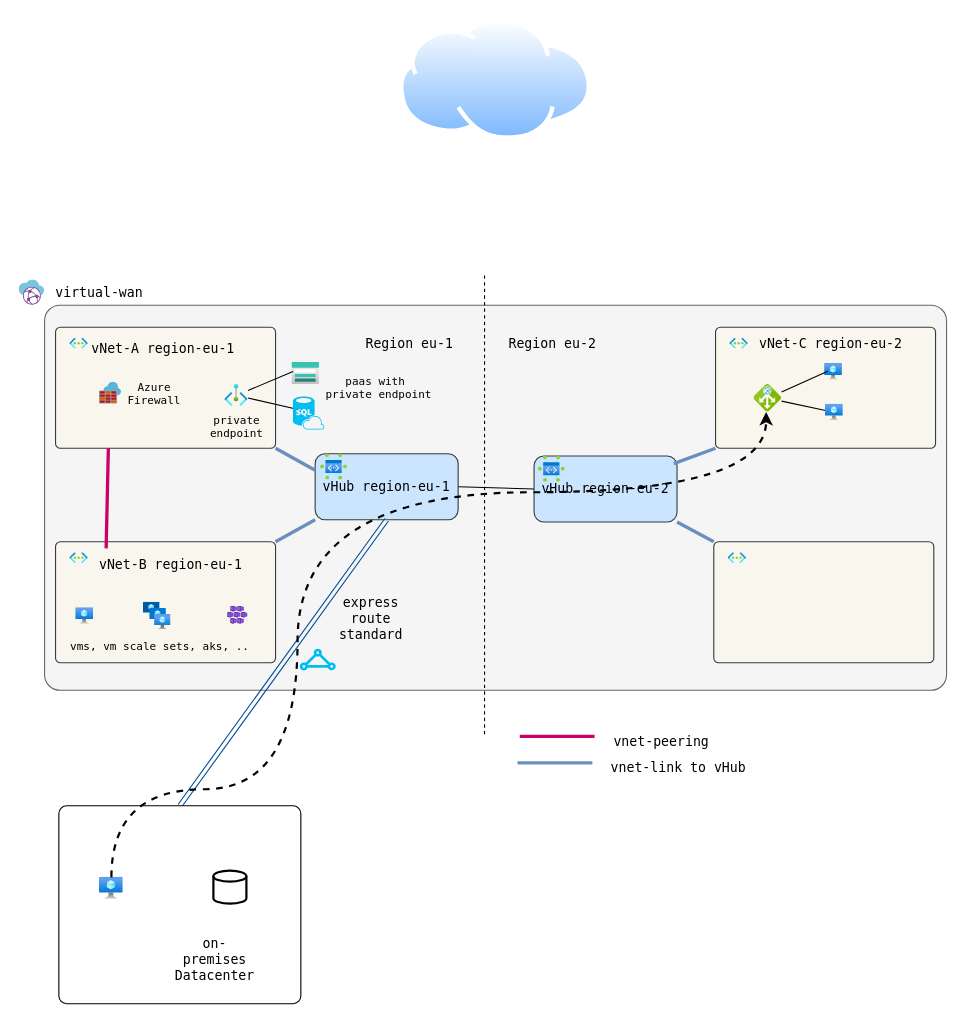
This 966x1023 diagram has some shape labels left out. The centre of each missing label's shape, as x and y in pixels:
"The Internet" goes at point 495,79.
"vNet-D region-eu-2" goes at point 823,602.
